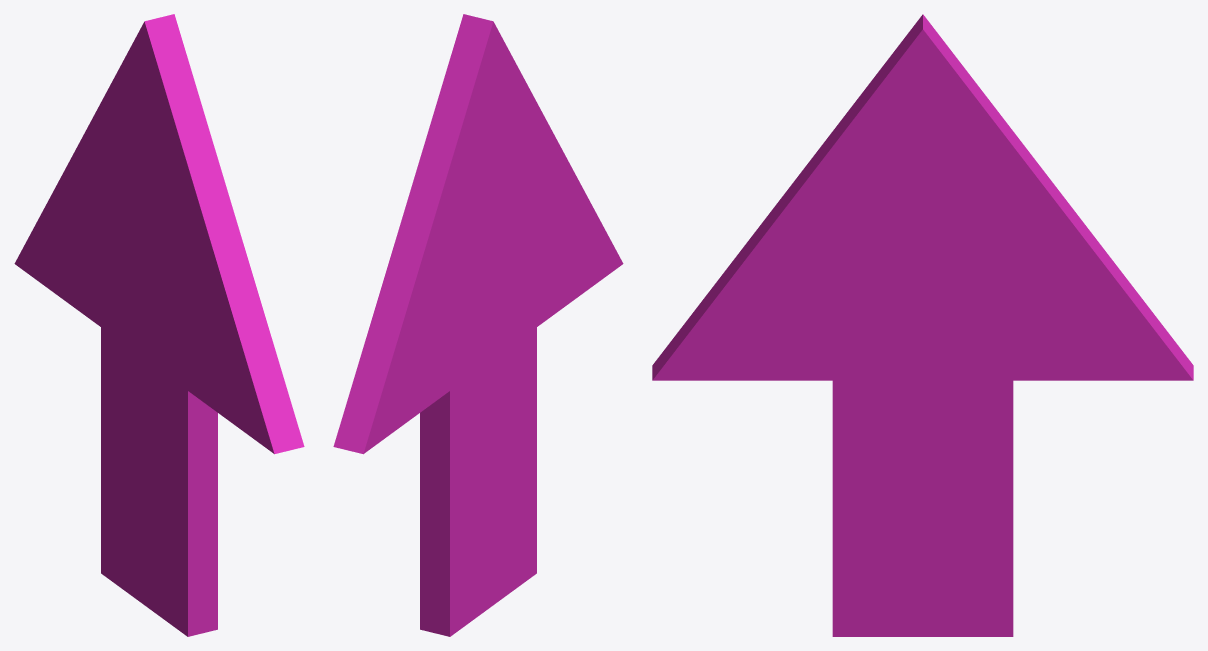
File: pink_arrow.glb
The picture shows the model from 3 angles, left to right: view 1: azimuth 30°, elevation 25°; view 2: azimuth 150°, elevation 25°; view 3: azimuth 270°, elevation 25°; orthographic projection. The views are drawn at different scales.
Visible parts, largest first — view 1: Cube.002; view 2: Cube.002; view 3: Cube.002.
Part boxes in pixels (x1,y1,x2,y2): Cube.002: [14, 14, 304, 636]; Cube.002: [333, 14, 623, 636]; Cube.002: [652, 14, 1193, 636].
Bounding box in the file's own units: 0.1332 × 2.48 × 2.
